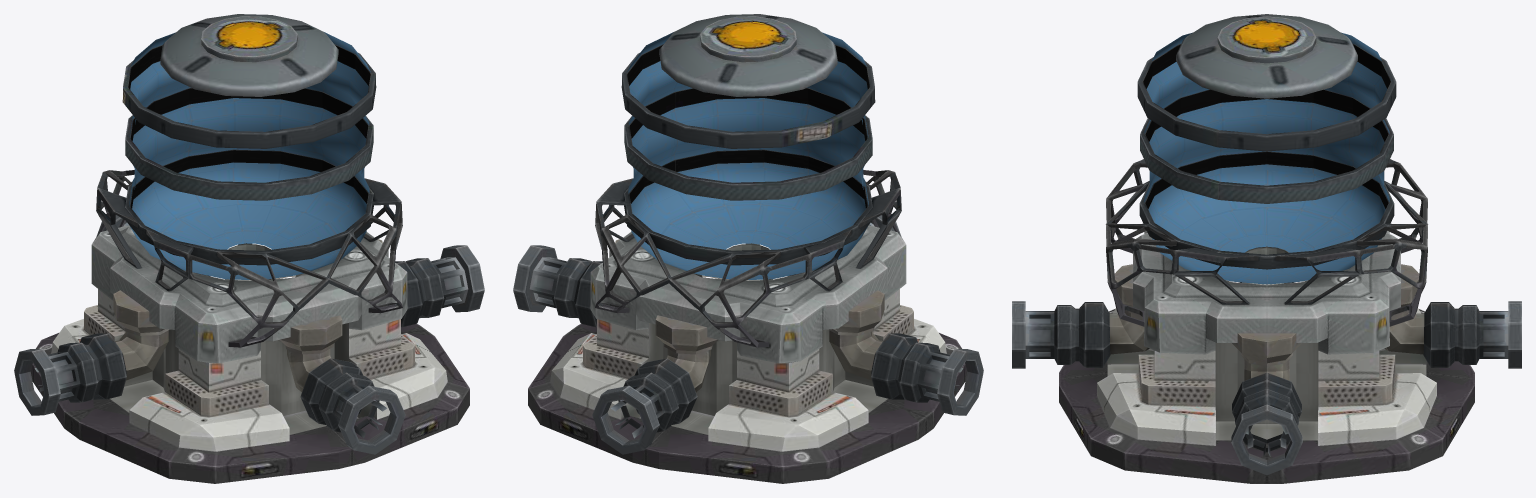
Rendered from storageTank.glb.
The picture shows the model from 3 angles, left to right: view 1: azimuth 30°, elevation 25°; view 2: azimuth 150°, elevation 25°; view 3: azimuth 270°, elevation 25°; orthographic projection.
Parts seen in each view (by area): view 1: lifangti.005; view 2: lifangti.005; view 3: lifangti.005.
Part boxes in pixels (left/top/right/bottom): lifangti.005: left=14, top=14, right=484, bottom=483; lifangti.005: left=513, top=14, right=983, bottom=483; lifangti.005: left=1012, top=14, right=1521, bottom=483.
Size of the model in its own units: 30 by 23.45 by 30.
1 material, 1 textured.
